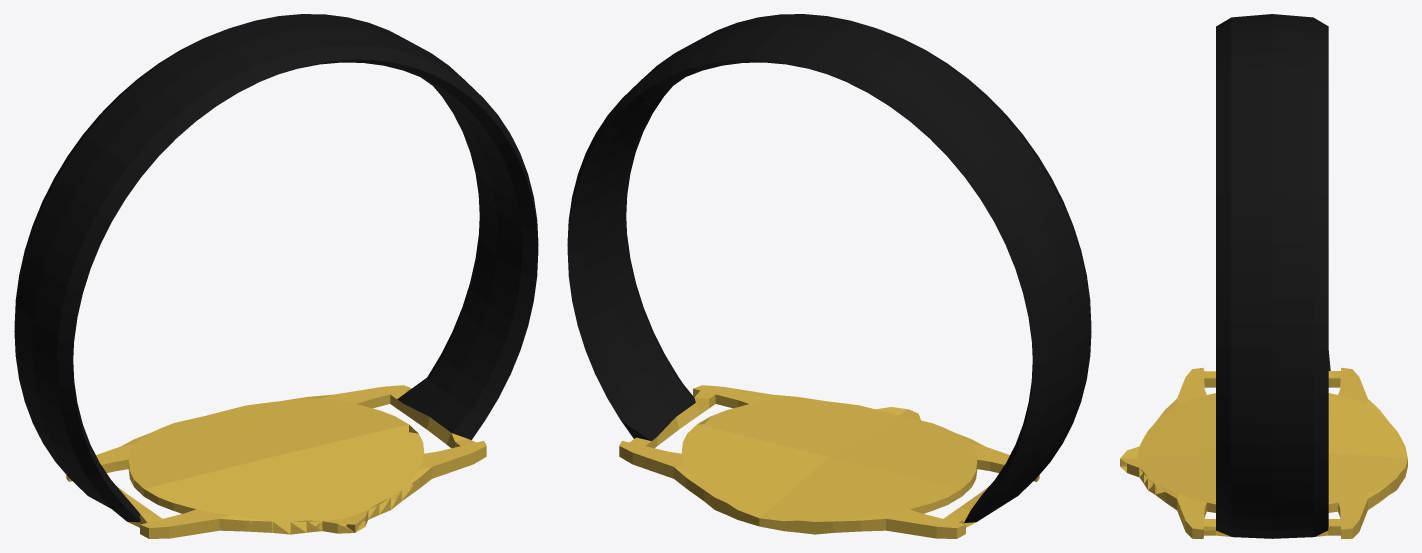
The model's file is watch.glb.
The picture shows the model from 3 angles, left to right: view 1: azimuth 30°, elevation 25°; view 2: azimuth 150°, elevation 25°; view 3: azimuth 270°, elevation 25°; orthographic projection. The views are drawn at different scales.
Visible parts, largest first — view 1: Plane; view 2: Plane; view 3: Plane.
Part boxes in pixels (left/top/right/bottom): Plane: left=14, top=14, right=538, bottom=538; Plane: left=567, top=14, right=1091, bottom=538; Plane: left=1120, top=14, right=1407, bottom=538.
Bounding box in the file's own units: 0.3586 × 0.3153 × 0.1897.
